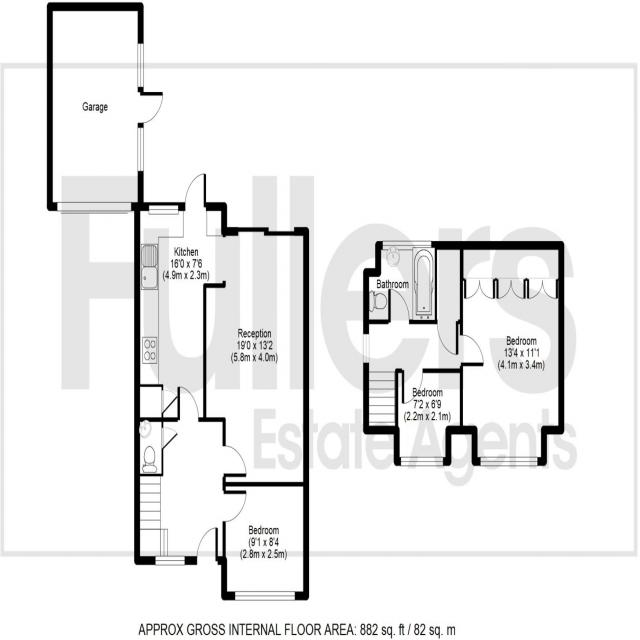DOOR: (195, 527, 219, 565), (184, 173, 208, 211), (401, 367, 424, 405), (176, 385, 200, 421), (387, 288, 410, 325), (436, 319, 459, 356), (222, 489, 247, 523), (460, 334, 485, 367), (222, 444, 247, 477)
ROOM: (134, 173, 309, 486), (459, 241, 565, 467), (221, 482, 309, 601), (393, 368, 463, 466)
WINDOW: (234, 590, 296, 601), (479, 456, 539, 467), (382, 240, 432, 251), (400, 456, 444, 467), (147, 201, 179, 216), (154, 555, 186, 567), (362, 333, 370, 365)
